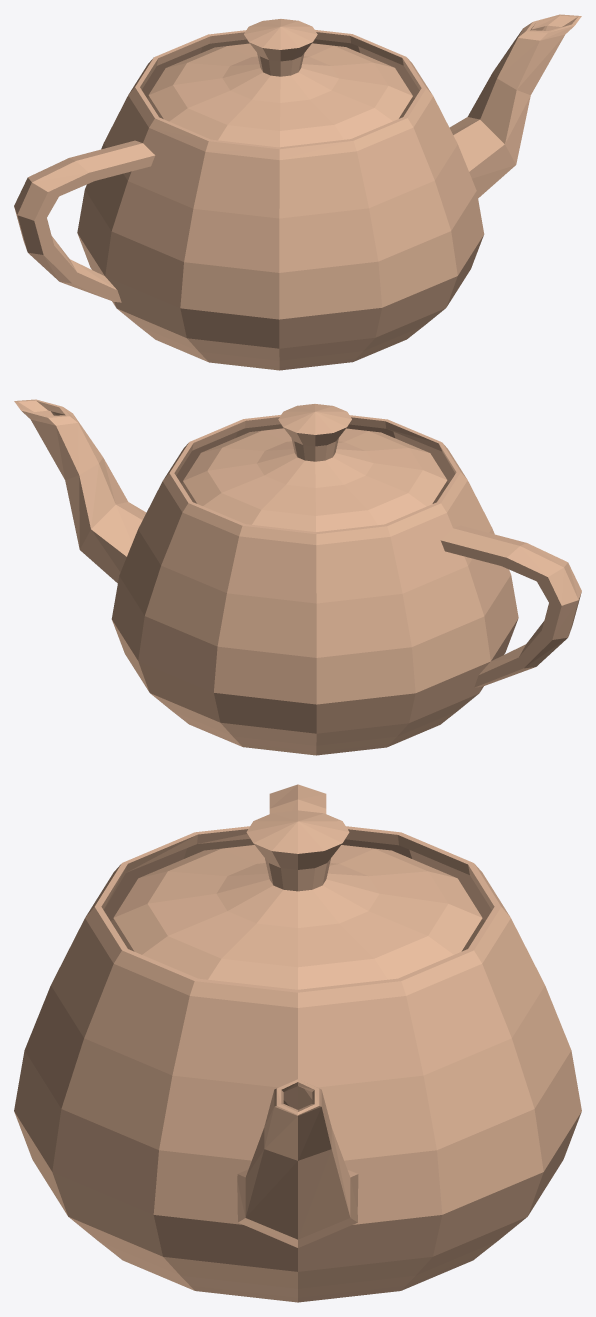
File: Teapot.obj
3 views of the same model, one above another, from view 1: azimuth 30°, elevation 25°; view 2: azimuth 150°, elevation 25°; view 3: azimuth 270°, elevation 25° (orthographic). The views are drawn at different scales.
Visible parts, largest first — view 1: Teapot001; view 2: Teapot001; view 3: Teapot001.
Part boxes in pixels (bbox=[...]): Teapot001: bbox=[14, 14, 581, 370]; Teapot001: bbox=[14, 399, 581, 755]; Teapot001: bbox=[14, 784, 581, 1302].
Bounding box in the file's own units: 24.11 × 11.81 × 15.
